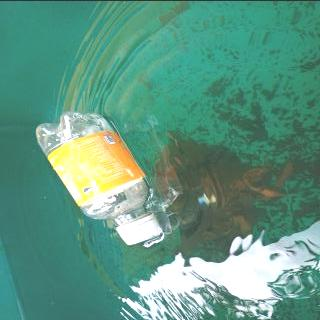bottle: (34, 108, 164, 245)
